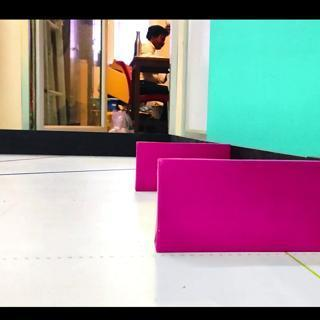xparking: (161, 160, 319, 252)
